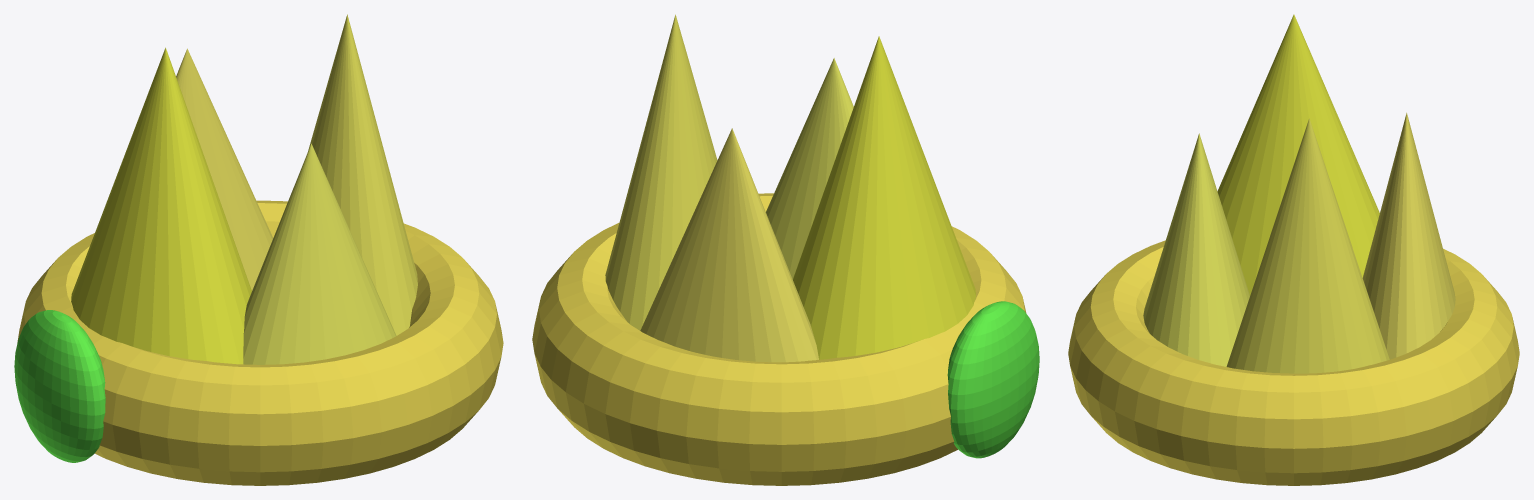
The model's file is corona.fbx.
The picture shows the model from 3 angles, left to right: view 1: azimuth 30°, elevation 25°; view 2: azimuth 150°, elevation 25°; view 3: azimuth 270°, elevation 25°; orthographic projection. The views are drawn at different scales.
Parts seen in each view (by area): view 1: Rosca, Cono.003, Cono.001, Cono.002, Esfera, Cono; view 2: Rosca, Cono.003, Cono, Cono.002, Esfera, Cono.001; view 3: Rosca, Cono.002, Cono.003, Cono.001, Cono.
Part boxes in pixels (x1,y1,x2,y2): Rosca: [17, 200, 503, 485]; Cono.003: [71, 47, 251, 364]; Cono.001: [243, 143, 396, 364]; Cono.002: [308, 14, 417, 335]; Esfera: [14, 310, 105, 462]; Cono: [176, 48, 273, 290]; Rosca: [532, 193, 1026, 485]; Cono.003: [793, 36, 975, 359]; Cono: [640, 128, 818, 362]; Cono.002: [605, 14, 717, 330]; Esfera: [947, 301, 1039, 458]; Cono.001: [766, 58, 853, 279]; Rosca: [1068, 240, 1519, 485]; Cono.002: [1226, 118, 1389, 373]; Cono.003: [1217, 14, 1379, 295]; Cono.001: [1143, 133, 1249, 366]; Cono: [1362, 112, 1455, 359].
Size of the model in its own units: 261 by 217 by 250.
